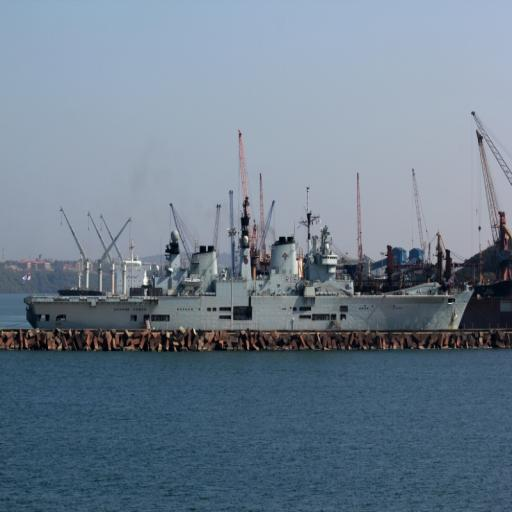Portanaves: (22, 217, 484, 333)
